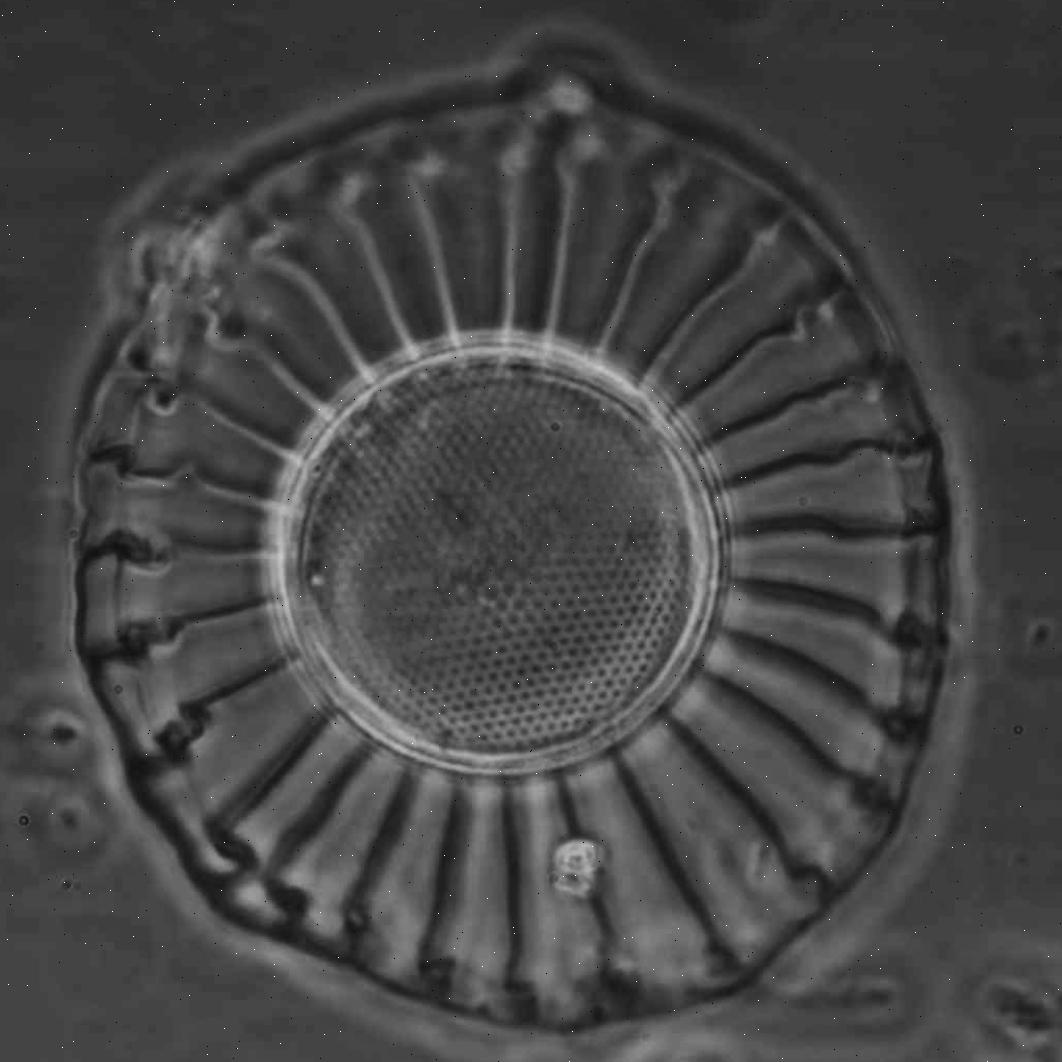planktoniella_sol: (75, 72, 948, 1029)
